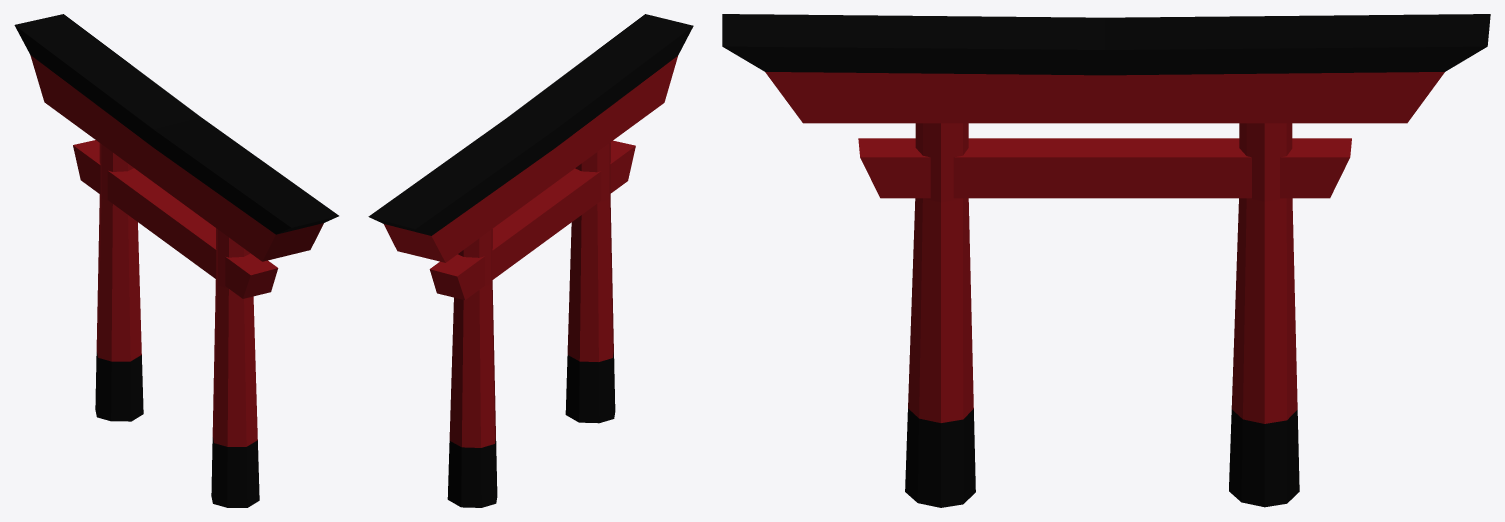
The model's file is finalCheckpointGate.fbx.
3 renders of one model, left to right at view 1: azimuth 30°, elevation 25°; view 2: azimuth 150°, elevation 25°; view 3: azimuth 270°, elevation 25°, orthographic. The views are drawn at different scales.
Visible parts, largest first — view 1: Cube.001, Plane.003, Plane.002, Cube; view 2: Cube.001, Plane.003, Plane.002, Cube; view 3: Cube.001, Cube, Plane.002, Plane.003.
Part boxes in pixels (left/top/right/bottom): Cube.001: left=14, top=14, right=338, bottom=261; Plane.003: left=211, top=228, right=259, bottom=507; Plane.002: left=95, top=143, right=143, bottom=421; Cube: left=73, top=140, right=278, bottom=298; Cube.001: left=368, top=14, right=693, bottom=262; Plane.003: left=565, top=142, right=615, bottom=423; Plane.002: left=447, top=229, right=497, bottom=507; Cube: left=429, top=140, right=635, bottom=299; Cube.001: left=722, top=14, right=1490, bottom=123; Cube: left=858, top=138, right=1351, bottom=198; Plane.002: left=1229, top=123, right=1299, bottom=507; Plane.003: left=905, top=123, right=975, bottom=507.
Size of the model in its own units: 120 by 795 by 1195.
